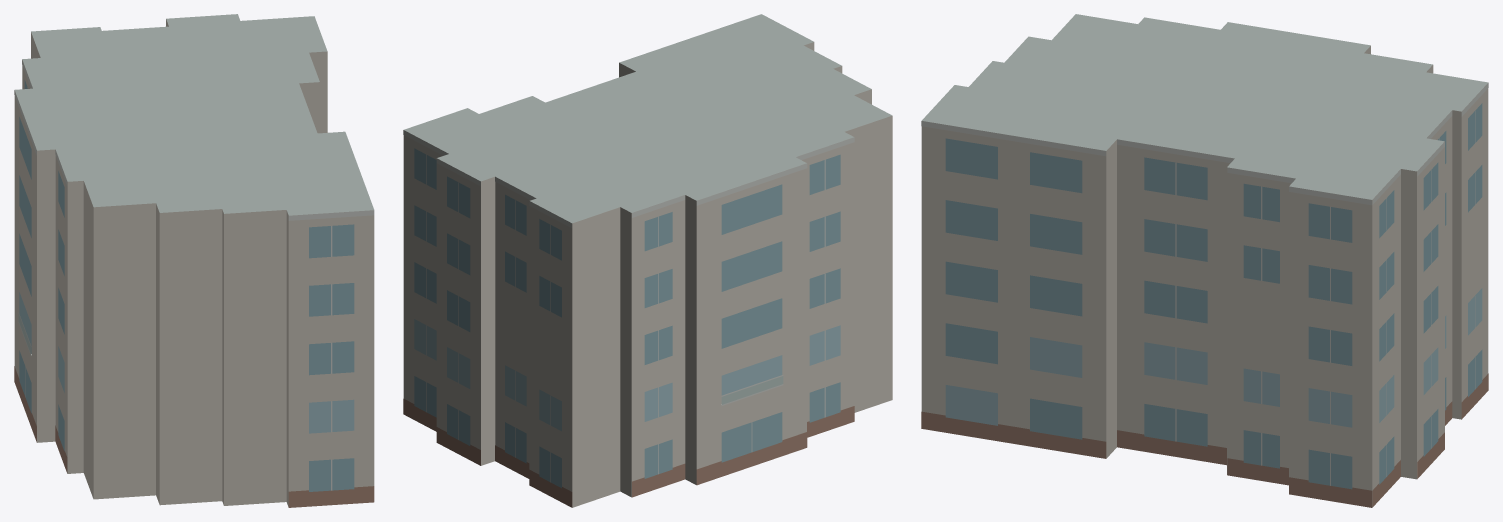
Rendered from survey-upis-32993590.glb.
The picture shows the model from 3 angles, left to right: view 1: azimuth 30°, elevation 25°; view 2: azimuth 150°, elevation 25°; view 3: azimuth 270°, elevation 25°; orthographic projection. The views are drawn at different scales.
Visible parts, largest first — view 1: survey-upis-32993590.tmp; view 2: survey-upis-32993590.tmp; view 3: survey-upis-32993590.tmp.
Part boxes in pixels (x1,y1,x2,y2): survey-upis-32993590.tmp: (14,14,374,507); survey-upis-32993590.tmp: (403,14,892,507); survey-upis-32993590.tmp: (921,14,1488,507).
Bounding box in the file's own units: 17.88 × 13.8 × 23.04.
